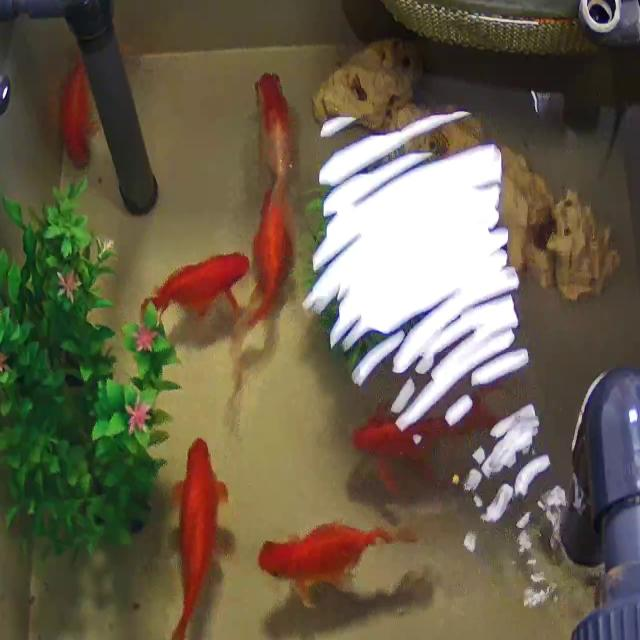fish: (154, 424, 248, 640), (254, 502, 412, 602), (355, 401, 517, 494), (240, 168, 311, 347), (134, 254, 257, 326), (254, 52, 301, 192), (55, 56, 100, 178)
